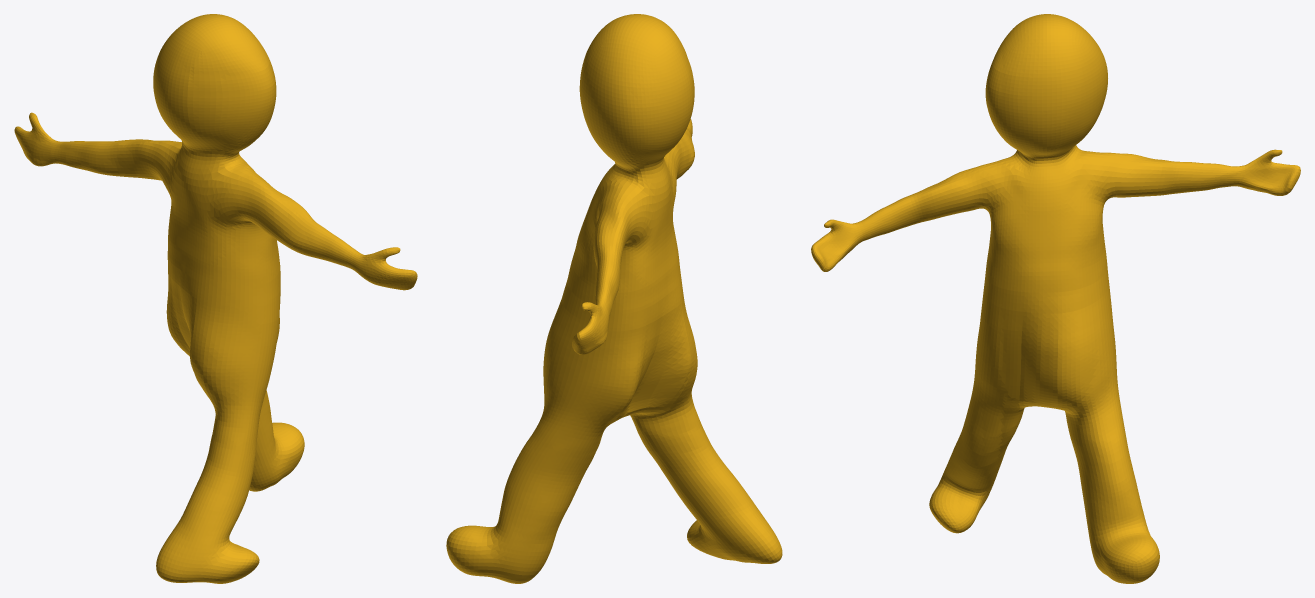
The model's file is character_pose1_edited.obj.
3 views of the same model, side by side, from view 1: azimuth 30°, elevation 25°; view 2: azimuth 150°, elevation 25°; view 3: azimuth 270°, elevation 25° (orthographic). The views are drawn at different scales.
Parts seen in each view (by area): view 1: StaticMeshActor_54; view 2: StaticMeshActor_54; view 3: StaticMeshActor_54.
Part boxes in pixels (box(x1,y1,x2,y2)): StaticMeshActor_54: box(14, 14, 417, 583); StaticMeshActor_54: box(446, 14, 782, 583); StaticMeshActor_54: box(811, 14, 1300, 583).
Bounding box in the file's own units: 1.4 × 3.1 × 2.62.
